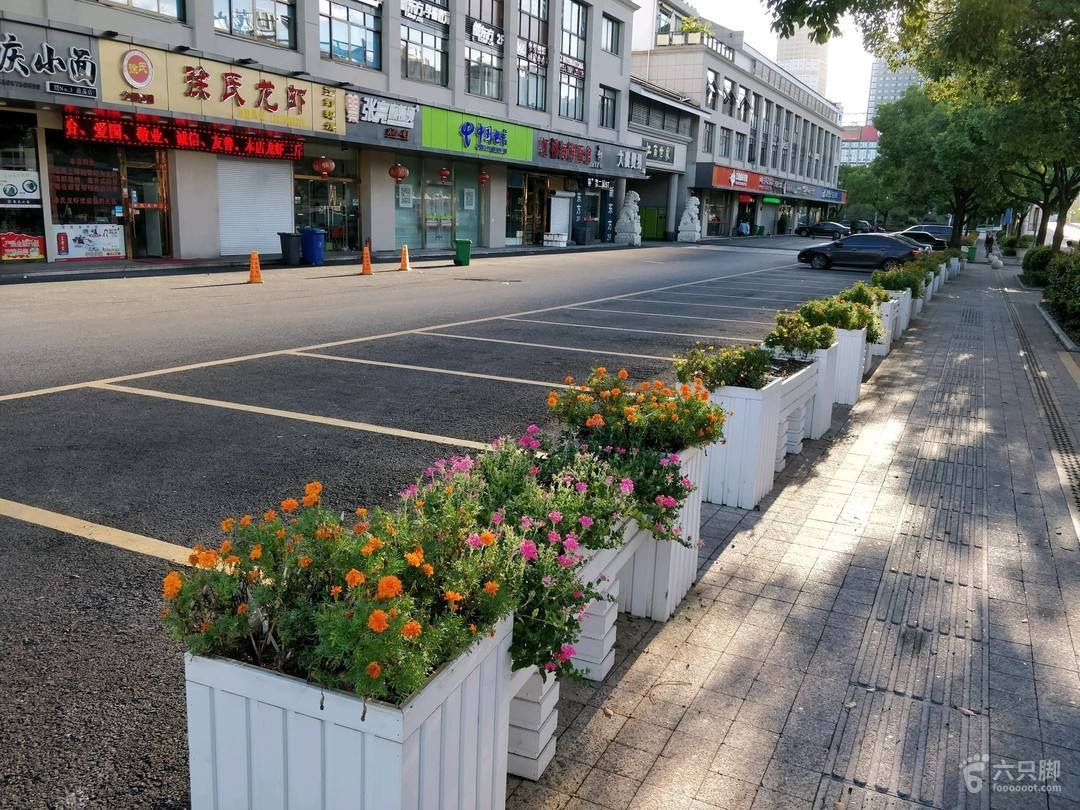slot_nocar: (3, 366, 594, 595), (53, 330, 715, 464), (291, 313, 704, 414), (393, 299, 778, 374), (551, 284, 819, 333)
